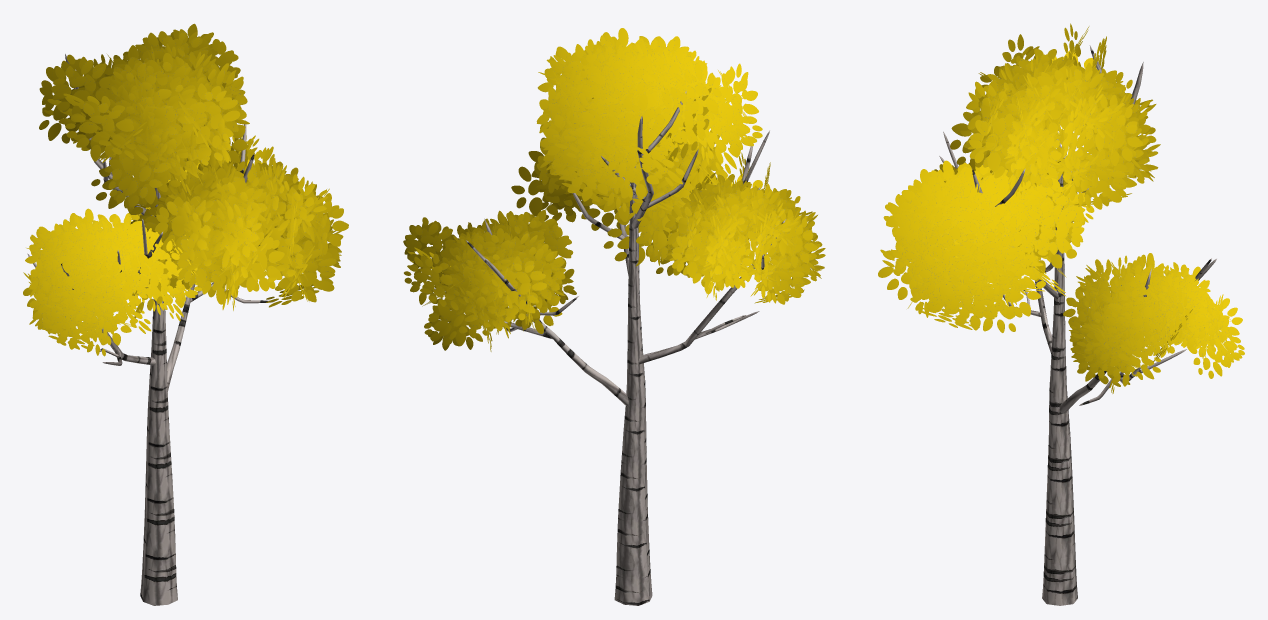
The model's file is BirchTree_5.glb.
3 views of the same model, side by side, from view 1: azimuth 30°, elevation 25°; view 2: azimuth 150°, elevation 25°; view 3: azimuth 270°, elevation 25° (orthographic). The views are drawn at different scales.
Parts seen in each view (by area): view 1: BirchTree_5; view 2: BirchTree_5; view 3: BirchTree_5.
Part boxes in pixels (x1,y1,x2,y2): BirchTree_5: (23,23,348,605); BirchTree_5: (403,28,825,605); BirchTree_5: (878,23,1244,605).
Size of the model in its own units: 3.58 by 5.52 by 3.51.
Materials: 2 (2 with a texture image).
